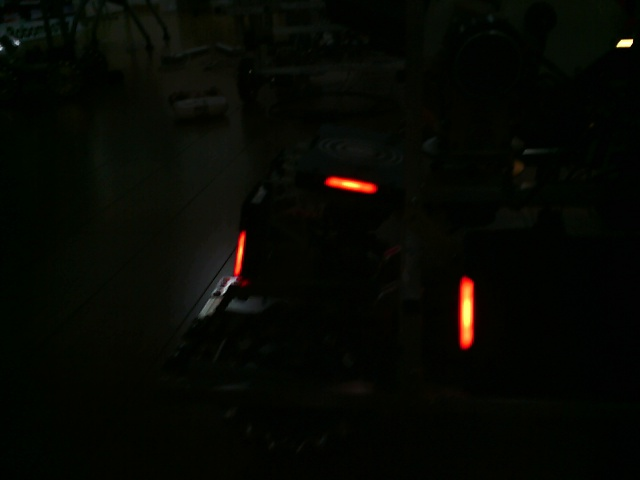lamp: (456, 275, 476, 349), (232, 229, 249, 283)
